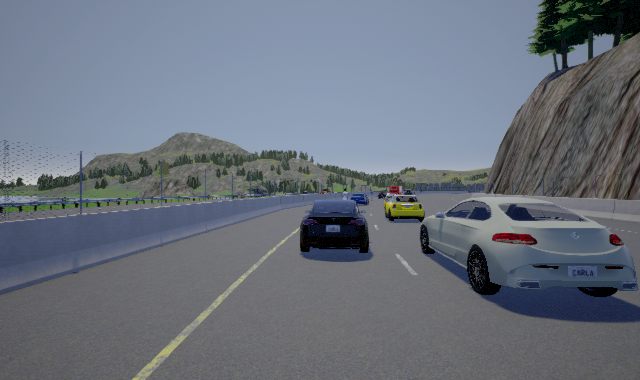vehicle: (420, 186, 639, 297), (300, 193, 369, 253), (384, 191, 426, 223)
